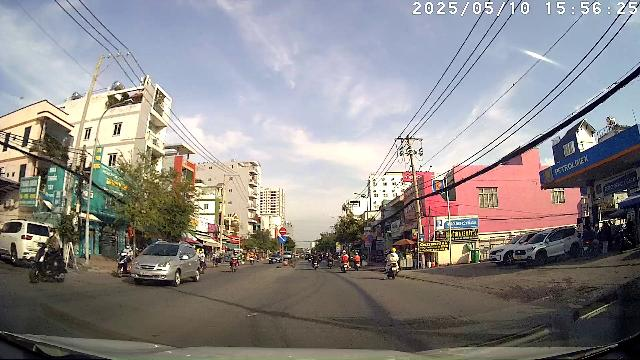102-cam-di-nguoc-chieu: (280, 227, 286, 235)
302a-huong-phai-di-vong-chuong-ngai-vat-1: (278, 236, 286, 242)
